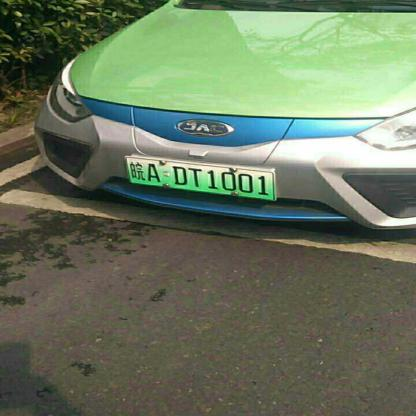lp: (124, 156, 276, 200)
